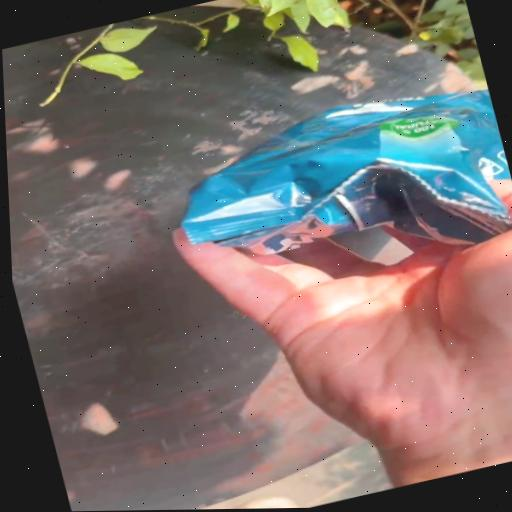cafe_hat: (181, 90, 512, 254)
